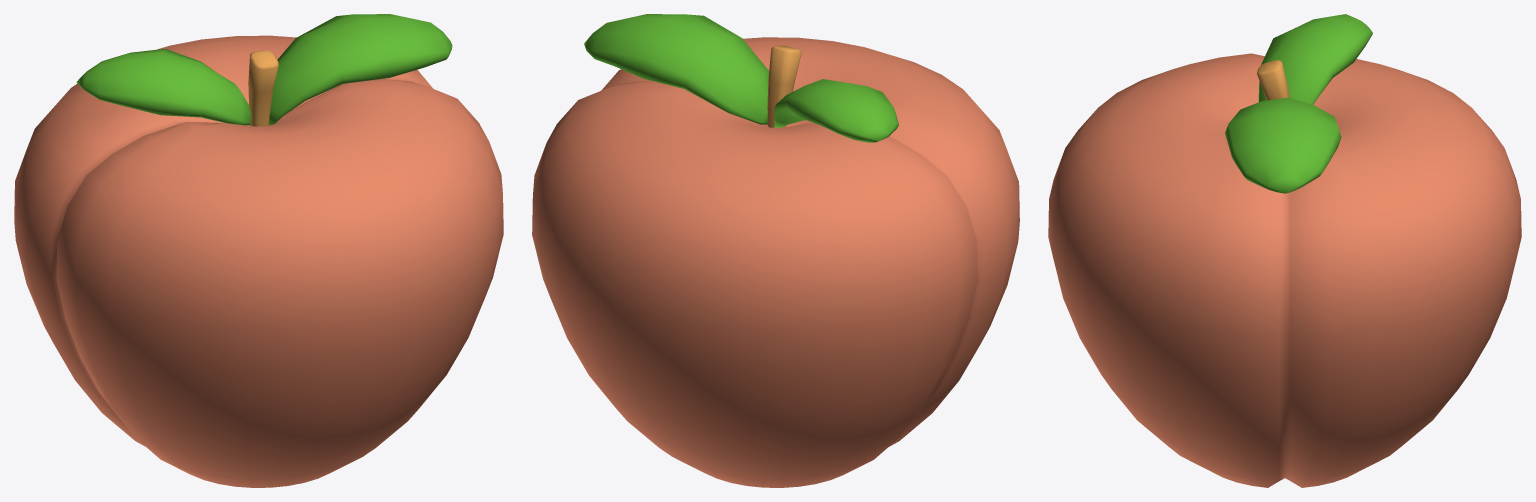
Rendered from Peach.fbx.
3 renders of one model, left to right at view 1: azimuth 30°, elevation 25°; view 2: azimuth 150°, elevation 25°; view 3: azimuth 270°, elevation 25°, orthographic. The views are drawn at different scales.
Parts seen in each view (by area): view 1: PeachMain_Export, Leaf.001_Export, Leaf_Export, Rootlet.001_Export; view 2: PeachMain_Export, Leaf.001_Export, Leaf_Export, Rootlet.001_Export; view 3: PeachMain_Export, Leaf.001_Export, Leaf_Export, Rootlet.001_Export.
Boxes of the visible parts, x1,y1,x2,y2 form: PeachMain_Export: [14, 35, 503, 487]; Leaf.001_Export: [268, 14, 452, 125]; Leaf_Export: [76, 48, 251, 125]; Rootlet.001_Export: [248, 50, 278, 126]; PeachMain_Export: [532, 37, 1019, 487]; Leaf.001_Export: [584, 14, 769, 124]; Leaf_Export: [774, 79, 898, 142]; Rootlet.001_Export: [767, 45, 801, 127]; PeachMain_Export: [1048, 53, 1521, 487]; Leaf.001_Export: [1225, 97, 1341, 193]; Leaf_Export: [1258, 14, 1372, 104]; Rootlet.001_Export: [1257, 60, 1289, 100].
Size of the model in its own units: 16.35 by 15.83 by 16.67.
3 materials, 3 textured.
